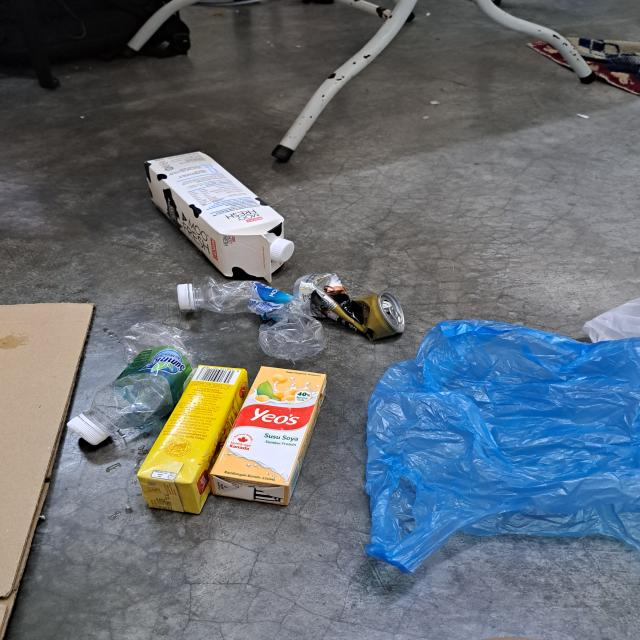can: (294, 272, 406, 340)
cardboard: (0, 301, 98, 640)
drink carton: (143, 150, 284, 282), (208, 366, 327, 506), (138, 364, 248, 515)
plastic bag: (361, 319, 640, 573)
plastic bottle: (85, 322, 192, 435), (192, 276, 328, 360)
plastic bottle cap: (65, 416, 106, 446), (177, 284, 192, 310)
pop tab: (389, 306, 403, 324)
